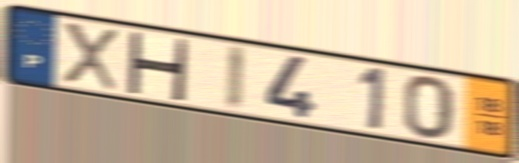0: (400, 73, 458, 141)
1: (355, 65, 388, 134)
4: (263, 53, 324, 123)
H: (123, 28, 191, 104)
I: (224, 42, 249, 113)
X: (59, 19, 120, 94)
